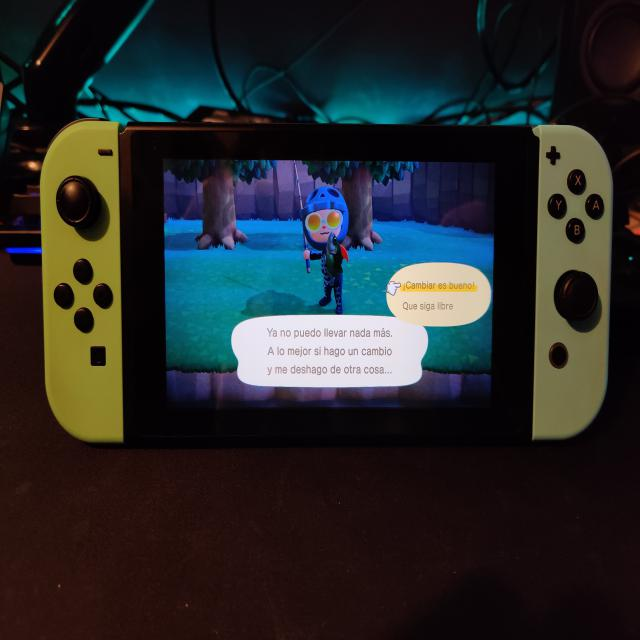text_bubble: (229, 311, 431, 392), (386, 261, 494, 330)
